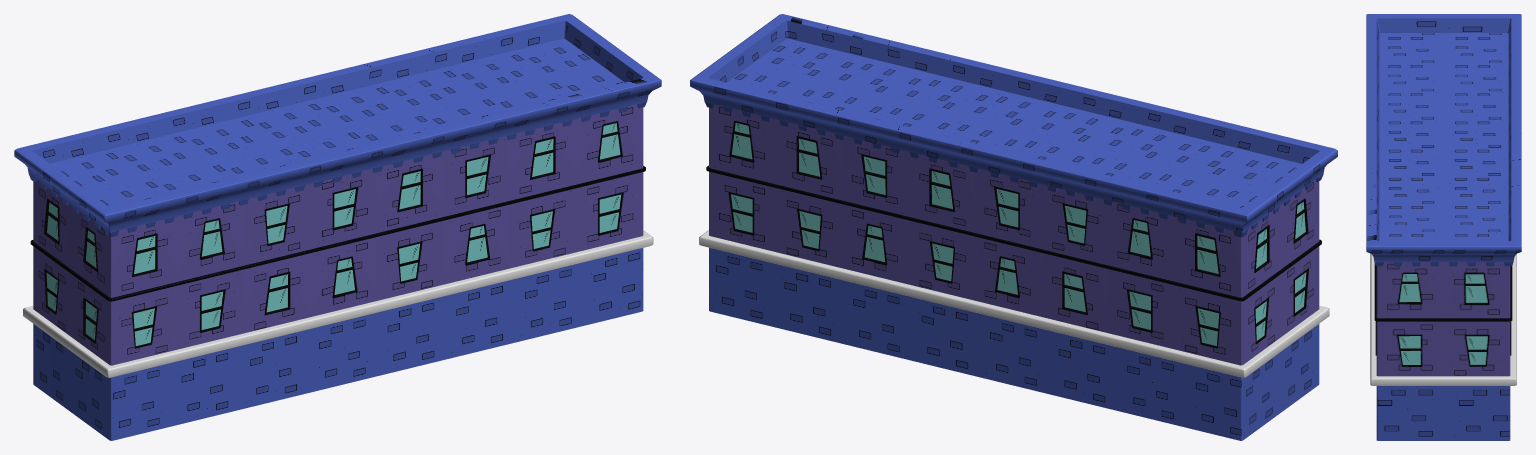
File: 8x2w_Building.fbx
3 views of the same model, side by side, from view 1: azimuth 30°, elevation 25°; view 2: azimuth 150°, elevation 25°; view 3: azimuth 270°, elevation 25° (orthographic). The views are drawn at different scales.
Parts seen in each view (by area): view 1: Box157, Box165, Box156, Box158; view 2: Box157, Box165, Box156, Box158; view 3: Box165, Box157, Box156, Box158.
Part boxes in pixels (x1,y1,x2,y2): Box157: [30, 103, 645, 365]; Box165: [14, 14, 661, 236]; Box156: [33, 248, 643, 440]; Box158: [23, 230, 653, 377]; Box157: [706, 104, 1321, 365]; Box165: [690, 14, 1337, 237]; Box156: [709, 247, 1319, 440]; Box158: [699, 230, 1329, 377]; Box165: [1366, 14, 1521, 266]; Box157: [1374, 262, 1512, 376]; Box156: [1376, 386, 1510, 440]; Box158: [1370, 253, 1516, 385].
Size of the model in its own units: 20.6 by 8.23 by 5.8.
